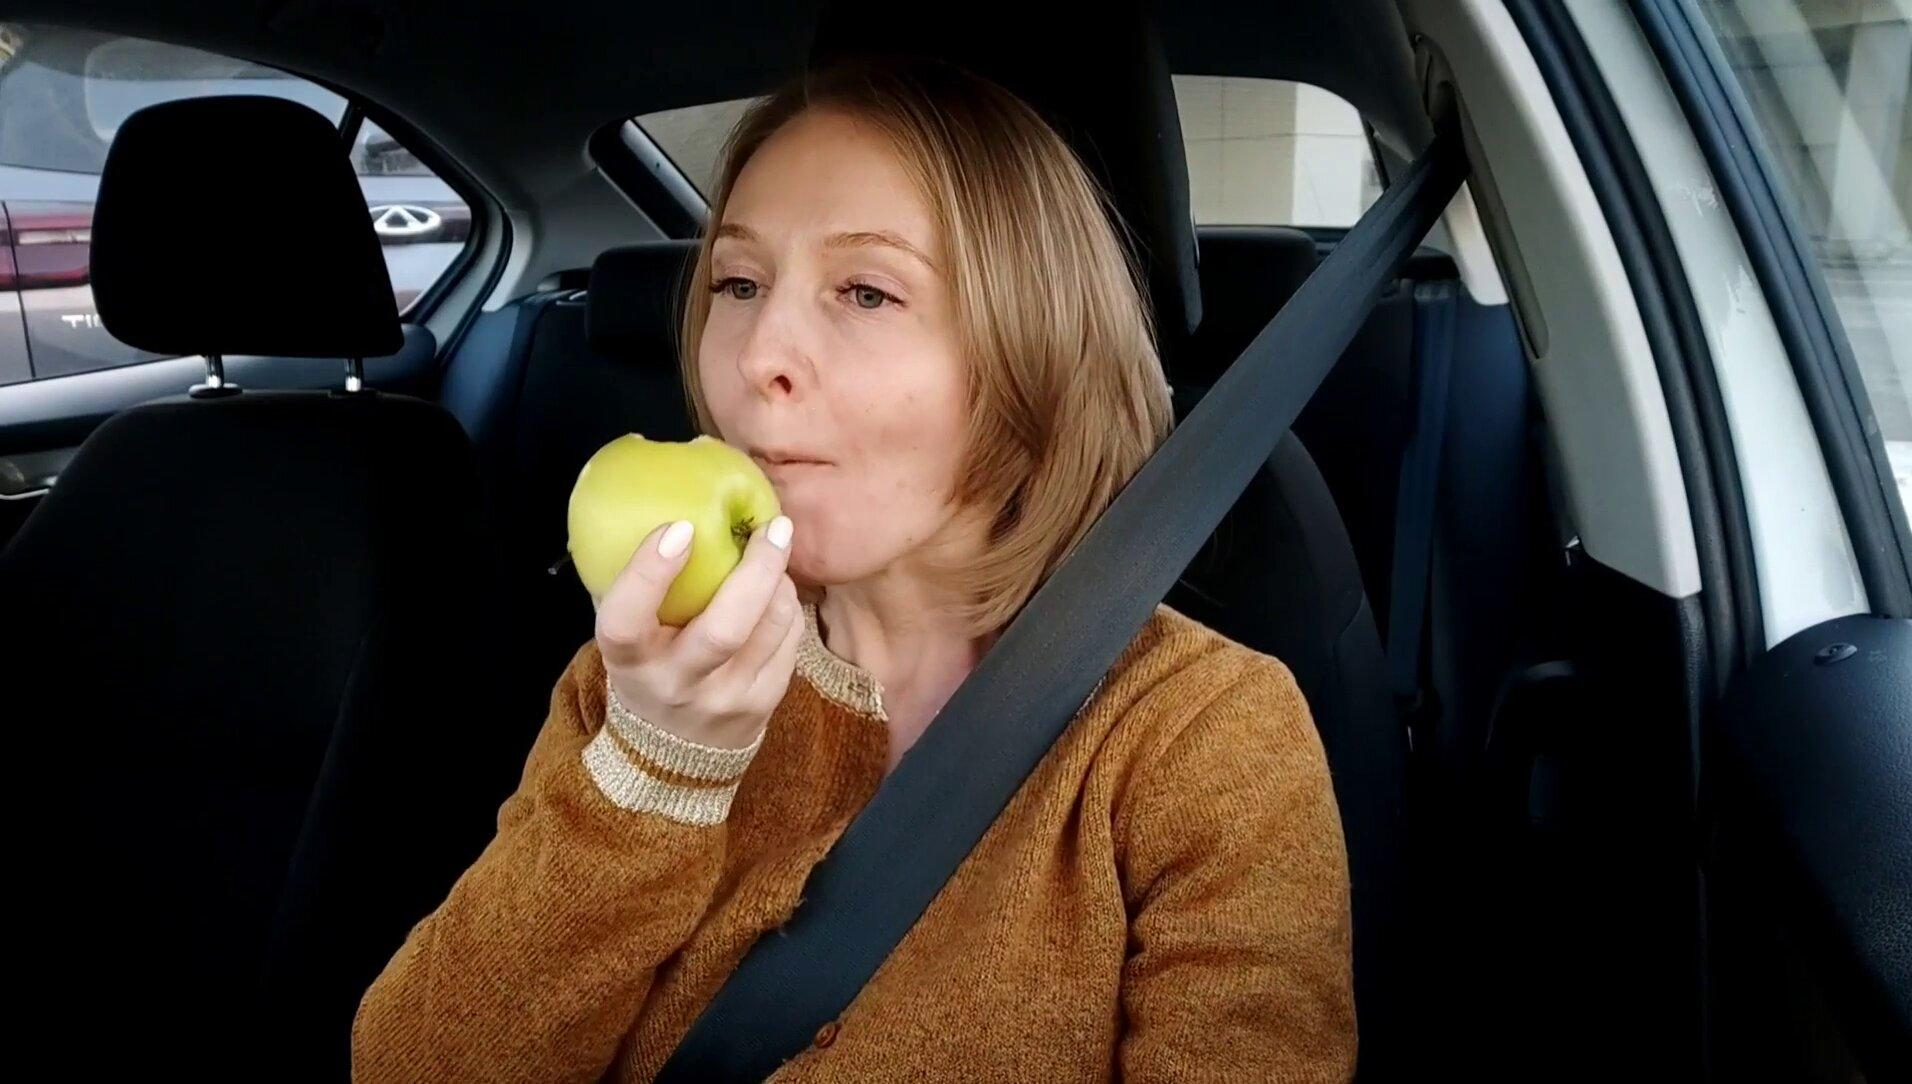Eating: (562, 424, 797, 632)
